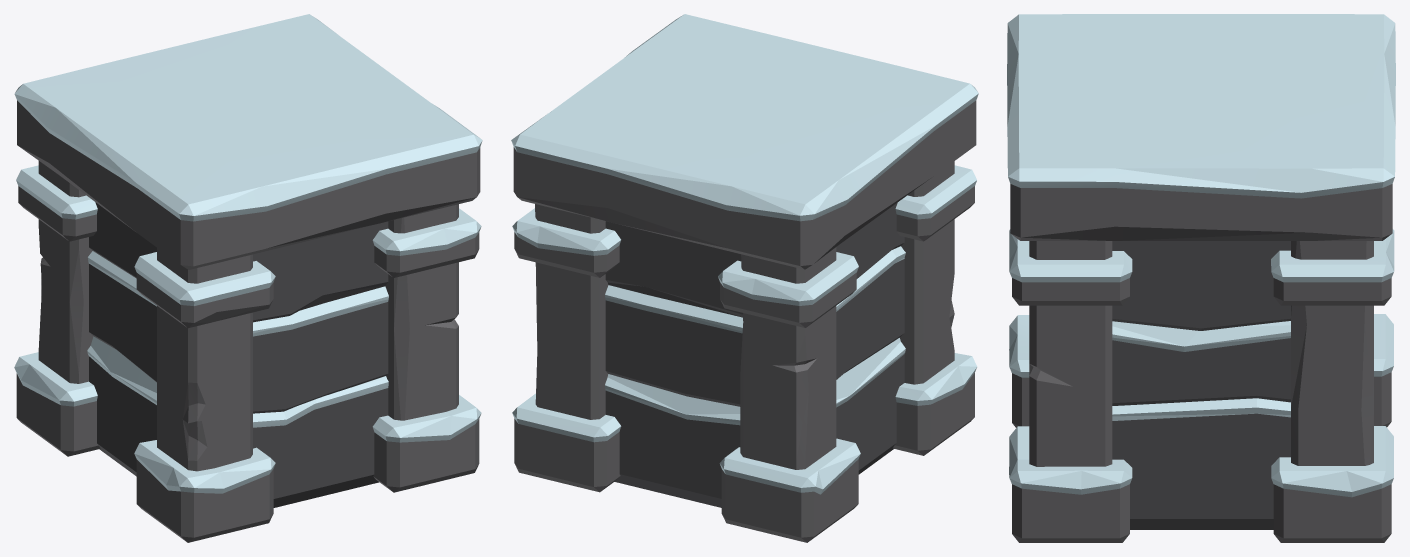
File: Pedestal_Piedra.glb
3 renders of one model, left to right at view 1: azimuth 30°, elevation 25°; view 2: azimuth 150°, elevation 25°; view 3: azimuth 270°, elevation 25°, orthographic. The views are drawn at different scales.
Visible parts, largest first — view 1: SM_Bld_Tower_Stone_Base_01_Snow; view 2: SM_Bld_Tower_Stone_Base_01_Snow; view 3: SM_Bld_Tower_Stone_Base_01_Snow.
Part boxes in pixels (x1,y1,x2,y2): SM_Bld_Tower_Stone_Base_01_Snow: [14, 14, 482, 542]; SM_Bld_Tower_Stone_Base_01_Snow: [511, 14, 978, 542]; SM_Bld_Tower_Stone_Base_01_Snow: [1007, 14, 1395, 542].
Bounding box in the file's own units: 2.64 × 2.84 × 2.63.
Materials: 1 (1 with a texture image).
